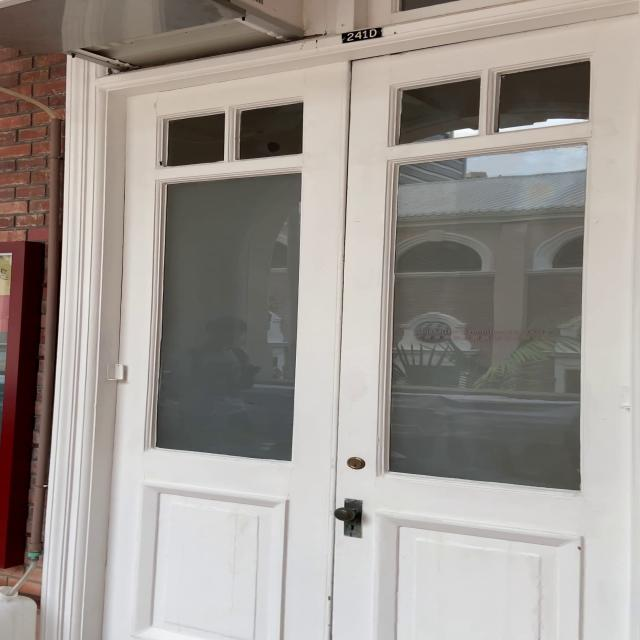room241d: (340, 25, 385, 47)
